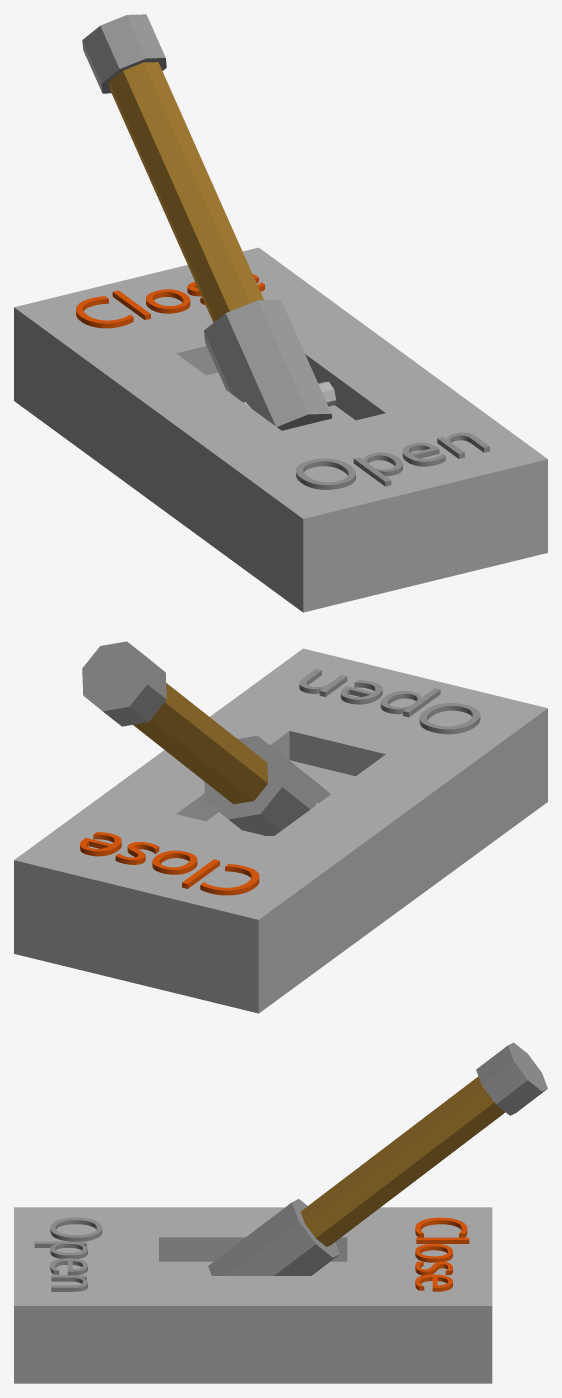
Rendered from leverclose.glb.
The picture shows the model from 3 angles, top to bottom: view 1: azimuth 30°, elevation 25°; view 2: azimuth 150°, elevation 25°; view 3: azimuth 270°, elevation 25°; orthographic projection. The views are drawn at different scales.
Parts seen in each view (by area): view 1: MoText, Zylinder; view 2: MoText, Zylinder; view 3: MoText, Zylinder.
Part boxes in pixels (bbox=[...]): MoText: bbox=[14, 247, 547, 612]; Zylinder: bbox=[82, 14, 331, 430]; MoText: bbox=[14, 648, 547, 1013]; Zylinder: bbox=[82, 641, 330, 835]; MoText: bbox=[14, 1207, 492, 1383]; Zylinder: bbox=[208, 1042, 547, 1275].
Bounding box in the file's own units: 0.9774 × 1.33 × 2.23.
